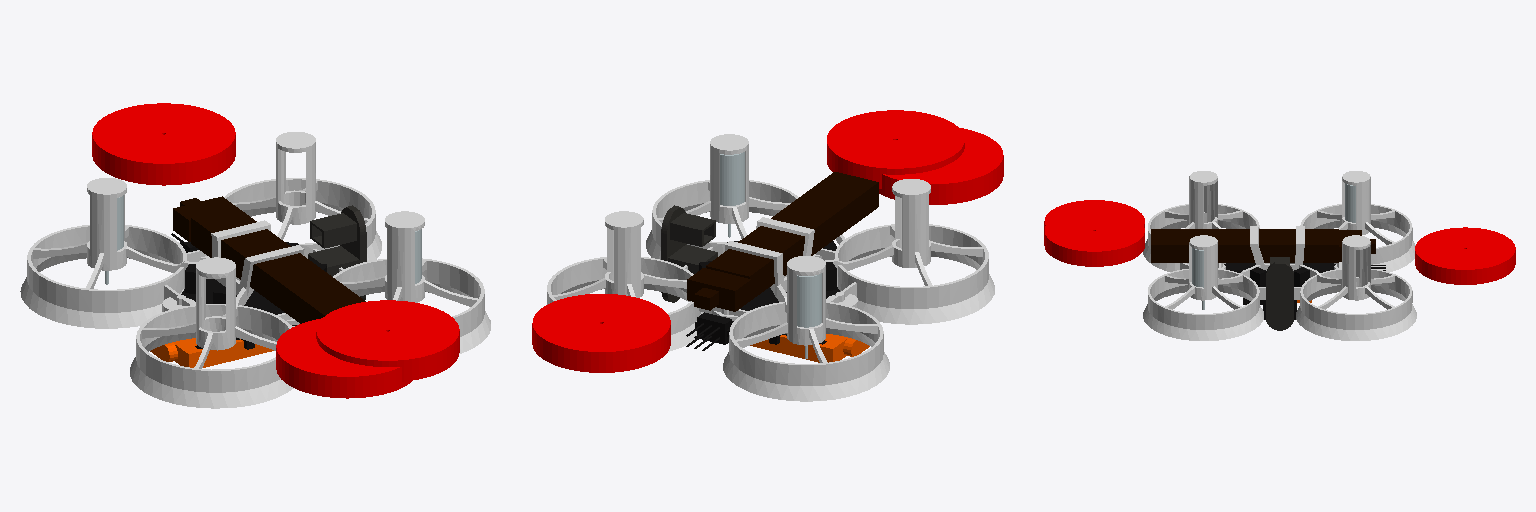
The robot description file, URDF, robot "stampfly":
<?xml version="1.0"?>
<robot name="stampfly">

  <!-- Materials -->
  <material name="motor_fl_material">
    <color rgba="0.7765 0.8314 0.8431 1"/>
  </material>
  <material name="motor_rl_material">
    <color rgba="0.7765 0.8314 0.8431 1"/>
  </material>
  <material name="motor_fr_material">
    <color rgba="0.7765 0.8314 0.8431 1"/>
  </material>
  <material name="motor_rr_material">
    <color rgba="0.7765 0.8314 0.8431 1"/>
  </material>
  <material name="propeller_fl_material">
    <color rgba="1.0000 0.0000 0.0000 0.7"/>
  </material>
  <material name="propeller_rr_material">
    <color rgba="1.0000 0.0000 0.0000 0.7"/>
  </material>
  <material name="propeller_rl_material">
    <color rgba="1.0000 0.0000 0.0000 0.7"/>
  </material>
  <material name="propeller_fr_material">
    <color rgba="1.0000 0.0000 0.0000 0.7"/>
  </material>
  <material name="battery_material">
    <color rgba="0.1569 0.0667 0.0039 1"/>
  </material>
  <material name="battery_adapter_material">
    <color rgba="0.2196 0.2118 0.2000 1"/>
  </material>
  <material name="frame_material">
    <color rgba="0.9000 0.9000 0.9000 0.9"/>
  </material>
  <material name="pcb_material">
    <color rgba="0.1020 0.0980 0.0980 1"/>
  </material>
  <material name="m5stamps3_material">
    <color rgba="1.0000 0.4000 0.0000 1"/>
  </material>

  <!-- Base Link (main body) -->
  <link name="base_link">
    <!-- motor_fl -->
    <visual name="motor_fl_visual">
      <origin xyz="0 0 0" rpy="-1.5707963267948966 0 0"/>
      <geometry>
        <mesh filename="motor_fl.stl" scale="0.001 0.001 0.001"/>
      </geometry>
      <material name="motor_fl_material"/>
    </visual>
    <!-- motor_rl -->
    <visual name="motor_rl_visual">
      <origin xyz="0 0 0" rpy="-1.5707963267948966 0 0"/>
      <geometry>
        <mesh filename="motor_rl.stl" scale="0.001 0.001 0.001"/>
      </geometry>
      <material name="motor_rl_material"/>
    </visual>
    <!-- motor_fr -->
    <visual name="motor_fr_visual">
      <origin xyz="0 0 0" rpy="-1.5707963267948966 0 0"/>
      <geometry>
        <mesh filename="motor_fr.stl" scale="0.001 0.001 0.001"/>
      </geometry>
      <material name="motor_fr_material"/>
    </visual>
    <!-- motor_rr -->
    <visual name="motor_rr_visual">
      <origin xyz="0 0 0" rpy="-1.5707963267948966 0 0"/>
      <geometry>
        <mesh filename="motor_rr.stl" scale="0.001 0.001 0.001"/>
      </geometry>
      <material name="motor_rr_material"/>
    </visual>
    <!-- battery -->
    <visual name="battery_visual">
      <origin xyz="0 0 0" rpy="-1.5707963267948966 0 0"/>
      <geometry>
        <mesh filename="battery.stl" scale="0.001 0.001 0.001"/>
      </geometry>
      <material name="battery_material"/>
    </visual>
    <!-- battery_adapter -->
    <visual name="battery_adapter_visual">
      <origin xyz="0 0 0" rpy="-1.5707963267948966 0 0"/>
      <geometry>
        <mesh filename="battery_adapter.stl" scale="0.001 0.001 0.001"/>
      </geometry>
      <material name="battery_adapter_material"/>
    </visual>
    <!-- frame -->
    <visual name="frame_visual">
      <origin xyz="0 0 0" rpy="-1.5707963267948966 0 0"/>
      <geometry>
        <mesh filename="frame.stl" scale="0.001 0.001 0.001"/>
      </geometry>
      <material name="frame_material"/>
    </visual>
    <!-- pcb -->
    <visual name="pcb_visual">
      <origin xyz="0 0 0" rpy="-1.5707963267948966 0 0"/>
      <geometry>
        <mesh filename="pcb.stl" scale="0.001 0.001 0.001"/>
      </geometry>
      <material name="pcb_material"/>
    </visual>
    <!-- m5stamps3 -->
    <visual name="m5stamps3_visual">
      <origin xyz="0 0 0" rpy="-1.5707963267948966 0 0"/>
      <geometry>
        <mesh filename="m5stamps3.stl" scale="0.001 0.001 0.001"/>
      </geometry>
      <material name="m5stamps3_material"/>
    </visual>
    <collision name="base_collision">
      <origin xyz="0 0 0" rpy="-1.5707963267948966 0 0"/>
      <geometry>
        <mesh filename="frame.stl" scale="0.001 0.001 0.001"/>
      </geometry>
    </collision>
    <inertial>
      <origin xyz="0 0 0" rpy="0 0 0"/>
      <mass value="0.030"/>
      <inertia ixx="9.16e-6" ixy="0" ixz="0" iyy="13.3e-6" iyz="0" izz="20.4e-6"/>
    </inertial>
  </link>

  <!-- Propeller Links -->
  <!-- propeller_fl -> prop2_link -->
  <link name="prop2_link">
    <visual name="propeller_fl_visual">
      <origin xyz="0 0 0" rpy="-1.5707963267948966 0 0"/>
      <geometry>
        <mesh filename="propeller_fl.stl" scale="0.001 0.001 0.001"/>
      </geometry>
      <material name="propeller_fl_material"/>
    </visual>
    <inertial>
      <origin xyz="0 0 0" rpy="0 0 0"/>
      <mass value="0.001"/>
      <inertia ixx="1e-9" ixy="0" ixz="0" iyy="1e-9" iyz="0" izz="1e-9"/>
    </inertial>
  </link>

  <joint name="prop2_joint" type="continuous">
    <parent link="base_link"/>
    <child link="prop2_link"/>
    <origin xyz="-0.0325 0.0325 0.01" rpy="0 0 0"/>
    <axis xyz="0 0 1"/>
    <dynamics damping="0.0001"/>
  </joint>

  <!-- propeller_rr -> prop3_link -->
  <link name="prop3_link">
    <visual name="propeller_rr_visual">
      <origin xyz="0 0 0" rpy="-1.5707963267948966 0 0"/>
      <geometry>
        <mesh filename="propeller_rr.stl" scale="0.001 0.001 0.001"/>
      </geometry>
      <material name="propeller_rr_material"/>
    </visual>
    <inertial>
      <origin xyz="0 0 0" rpy="0 0 0"/>
      <mass value="0.001"/>
      <inertia ixx="1e-9" ixy="0" ixz="0" iyy="1e-9" iyz="0" izz="1e-9"/>
    </inertial>
  </link>

  <joint name="prop3_joint" type="continuous">
    <parent link="base_link"/>
    <child link="prop3_link"/>
    <origin xyz="0.0325 -0.0325 0.01" rpy="0 0 0"/>
    <axis xyz="0 0 1"/>
    <dynamics damping="0.0001"/>
  </joint>

  <!-- propeller_rl -> prop1_link -->
  <link name="prop1_link">
    <visual name="propeller_rl_visual">
      <origin xyz="0 0 0" rpy="-1.5707963267948966 0 0"/>
      <geometry>
        <mesh filename="propeller_rl.stl" scale="0.001 0.001 0.001"/>
      </geometry>
      <material name="propeller_rl_material"/>
    </visual>
    <inertial>
      <origin xyz="0 0 0" rpy="0 0 0"/>
      <mass value="0.001"/>
      <inertia ixx="1e-9" ixy="0" ixz="0" iyy="1e-9" iyz="0" izz="1e-9"/>
    </inertial>
  </link>

  <joint name="prop1_joint" type="continuous">
    <parent link="base_link"/>
    <child link="prop1_link"/>
    <origin xyz="-0.0325 -0.0325 0.01" rpy="0 0 0"/>
    <axis xyz="0 0 1"/>
    <dynamics damping="0.0001"/>
  </joint>

  <!-- propeller_fr -> prop0_link -->
  <link name="prop0_link">
    <visual name="propeller_fr_visual">
      <origin xyz="0 0 0" rpy="-1.5707963267948966 0 0"/>
      <geometry>
        <mesh filename="propeller_fr.stl" scale="0.001 0.001 0.001"/>
      </geometry>
      <material name="propeller_fr_material"/>
    </visual>
    <inertial>
      <origin xyz="0 0 0" rpy="0 0 0"/>
      <mass value="0.001"/>
      <inertia ixx="1e-9" ixy="0" ixz="0" iyy="1e-9" iyz="0" izz="1e-9"/>
    </inertial>
  </link>

  <joint name="prop0_joint" type="continuous">
    <parent link="base_link"/>
    <child link="prop0_link"/>
    <origin xyz="0.0325 0.0325 0.01" rpy="0 0 0"/>
    <axis xyz="0 0 1"/>
    <dynamics damping="0.0001"/>
  </joint>

</robot>

--- Facts derived from the render (not from the file) ---
The picture shows the robot from 3 angles, left to right: view 1: azimuth 30°, elevation 25°; view 2: azimuth 150°, elevation 25°; view 3: azimuth 270°, elevation 25°; orthographic projection.
Model stampfly with 5 links and 4 joints (4 continuous), rooted at base_link, posed every joint at zero.
Links seen in each view (by area): view 1: base_link, prop0_link, prop3_link, prop1_link; view 2: base_link, prop0_link, prop3_link, prop1_link; view 3: base_link, prop3_link, prop0_link, prop1_link.
Boxes of the visible links, x1,y1,x2,y2 form: base_link: [20, 132, 490, 408]; prop0_link: [92, 103, 235, 185]; prop3_link: [316, 300, 459, 381]; prop1_link: [276, 318, 411, 398]; base_link: [547, 134, 994, 401]; prop0_link: [532, 294, 670, 372]; prop3_link: [827, 110, 964, 188]; prop1_link: [879, 128, 1003, 204]; base_link: [1143, 171, 1416, 340]; prop3_link: [1044, 209, 1144, 266]; prop0_link: [1415, 227, 1515, 284]; prop1_link: [1044, 200, 1144, 230].
Bounding box of the posed robot: 0.0818 × 0.1406 × 0.0301 m (x, y, z).
10 mesh visuals loaded from 13 distinct referenced files (10 binary STL); not drawn: 3 (reference not matched to a file when rendering).
